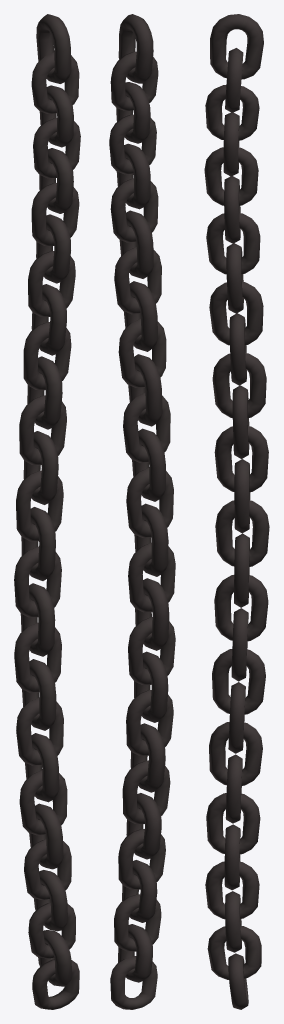
Rendered from Chain_01.fbx.
3 views of the same model, side by side, from view 1: azimuth 30°, elevation 25°; view 2: azimuth 210°, elevation 25°; view 3: azimuth 270°, elevation 25° (orthographic).
Parts seen in each view (by area): view 1: Chain-01_LOD0; view 2: Chain-01_LOD0; view 3: Chain-01_LOD0.
Boxes of the visible parts, bbox=[...] form: Chain-01_LOD0: bbox=[14, 14, 80, 1009]; Chain-01_LOD0: bbox=[109, 14, 175, 1009]; Chain-01_LOD0: bbox=[204, 14, 269, 1009].
Size of what is drawn, in the model's own units: 0.8723 by 0.7741 by 13.
